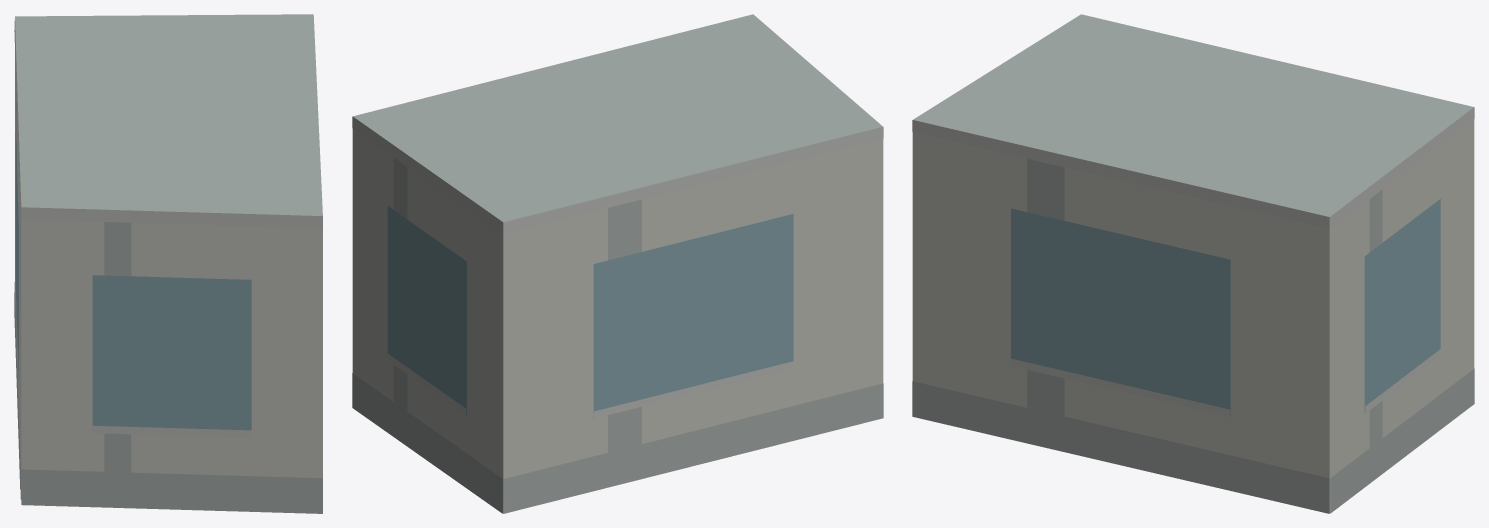
The model's file is residential-2c79bd4c-d9b3-4af1-9b67-9921b5bfbcfb.glb.
3 renders of one model, left to right at view 1: azimuth 30°, elevation 25°; view 2: azimuth 150°, elevation 25°; view 3: azimuth 270°, elevation 25°, orthographic. The views are drawn at different scales.
Visible parts, largest first — view 1: residential-2c79bd4c-d9b3-4af1-9b67-9921b5bfbcfb.tmp; view 2: residential-2c79bd4c-d9b3-4af1-9b67-9921b5bfbcfb.tmp; view 3: residential-2c79bd4c-d9b3-4af1-9b67-9921b5bfbcfb.tmp.
Boxes of the visible parts, <box> form: residential-2c79bd4c-d9b3-4af1-9b67-9921b5bfbcfb.tmp: <box>14,14,322,513</box>; residential-2c79bd4c-d9b3-4af1-9b67-9921b5bfbcfb.tmp: <box>352,14,883,513</box>; residential-2c79bd4c-d9b3-4af1-9b67-9921b5bfbcfb.tmp: <box>912,14,1474,513</box>.
Size of the model in its own units: 4.48 by 3.05 by 5.24.
